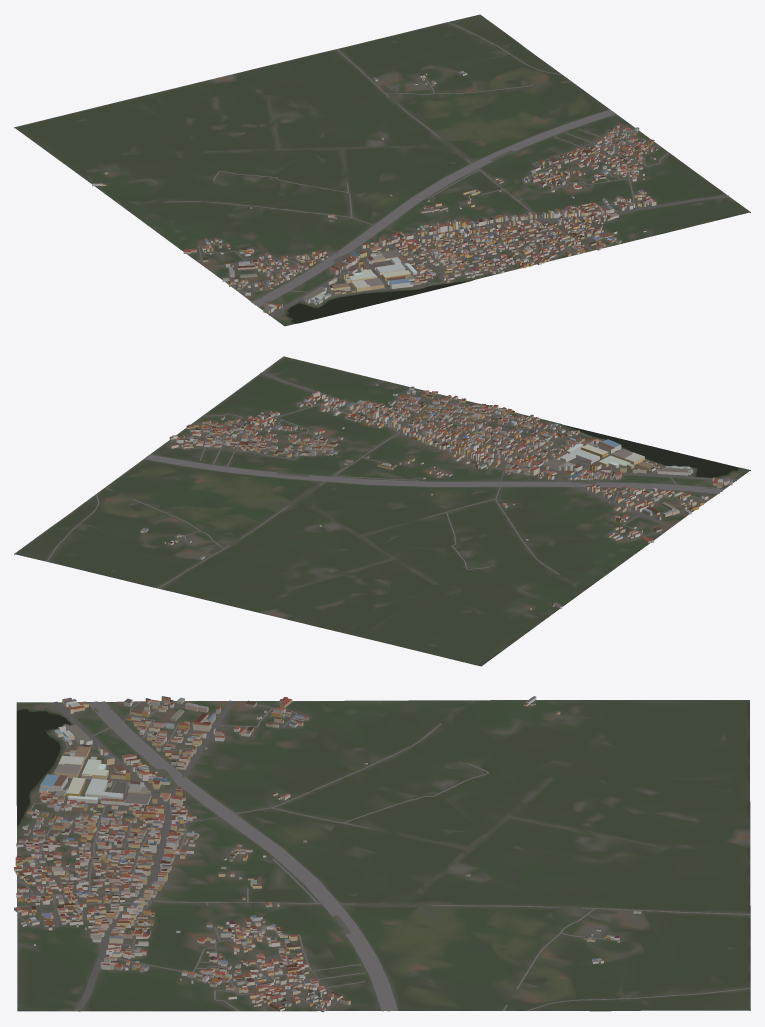
3 renders of one model, top to bottom at view 1: azimuth 30°, elevation 25°; view 2: azimuth 150°, elevation 25°; view 3: azimuth 270°, elevation 25°, orthographic. The views are drawn at different scales.
Visible parts, largest first — view 1: ground, buildings, roads, water; view 2: ground, buildings, roads, water; view 3: ground, buildings, roads, water.
Boxes of the visible parts, box(x1,y1,x2,y2) form: ground: box(14, 14, 750, 326); buildings: box(92, 70, 657, 313); roads: box(117, 22, 729, 316); water: box(287, 280, 470, 322); ground: box(14, 356, 750, 666); buildings: box(140, 383, 732, 610); roads: box(46, 371, 737, 591); water: box(564, 425, 737, 477); ground: box(16, 700, 750, 1011); buildings: box(14, 696, 641, 1012); roads: box(17, 700, 750, 1011); water: box(17, 709, 70, 825).
Bounding box in the file's own units: 1408 × 27.56 × 1409.
